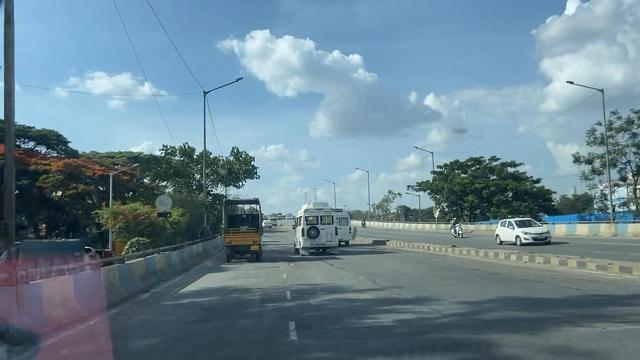HMV: (219, 199, 263, 260), (299, 203, 341, 261), (330, 209, 359, 242)
RoadDamages: (299, 279, 351, 322)
